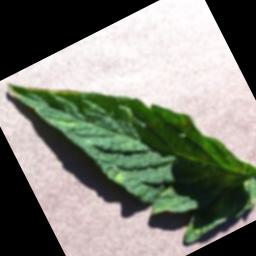Leaf_Mold: (27, 68, 79, 113), (111, 169, 127, 186)
